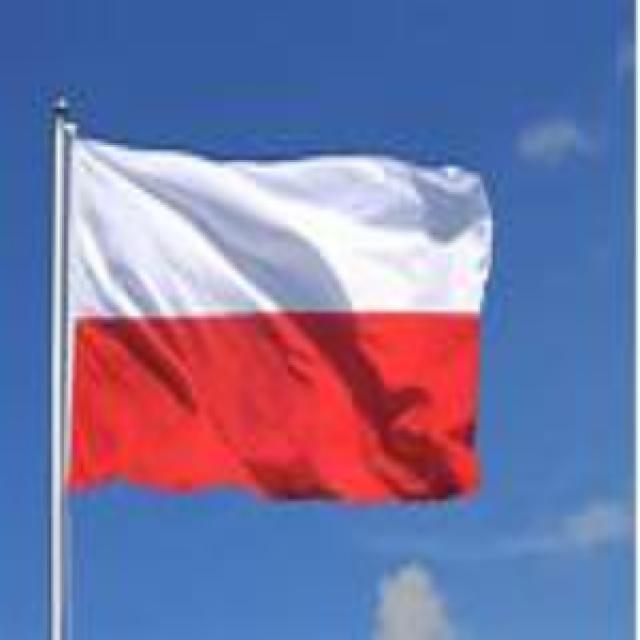poland: (45, 100, 499, 512)
